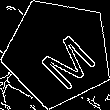M_NW: (24, 19, 92, 86)
